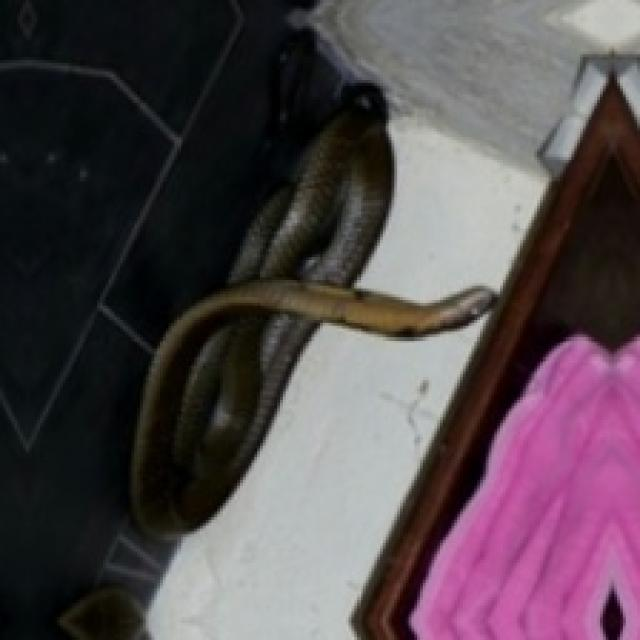king cobra: (131, 86, 491, 534), (151, 320, 480, 637), (357, 120, 543, 297)
